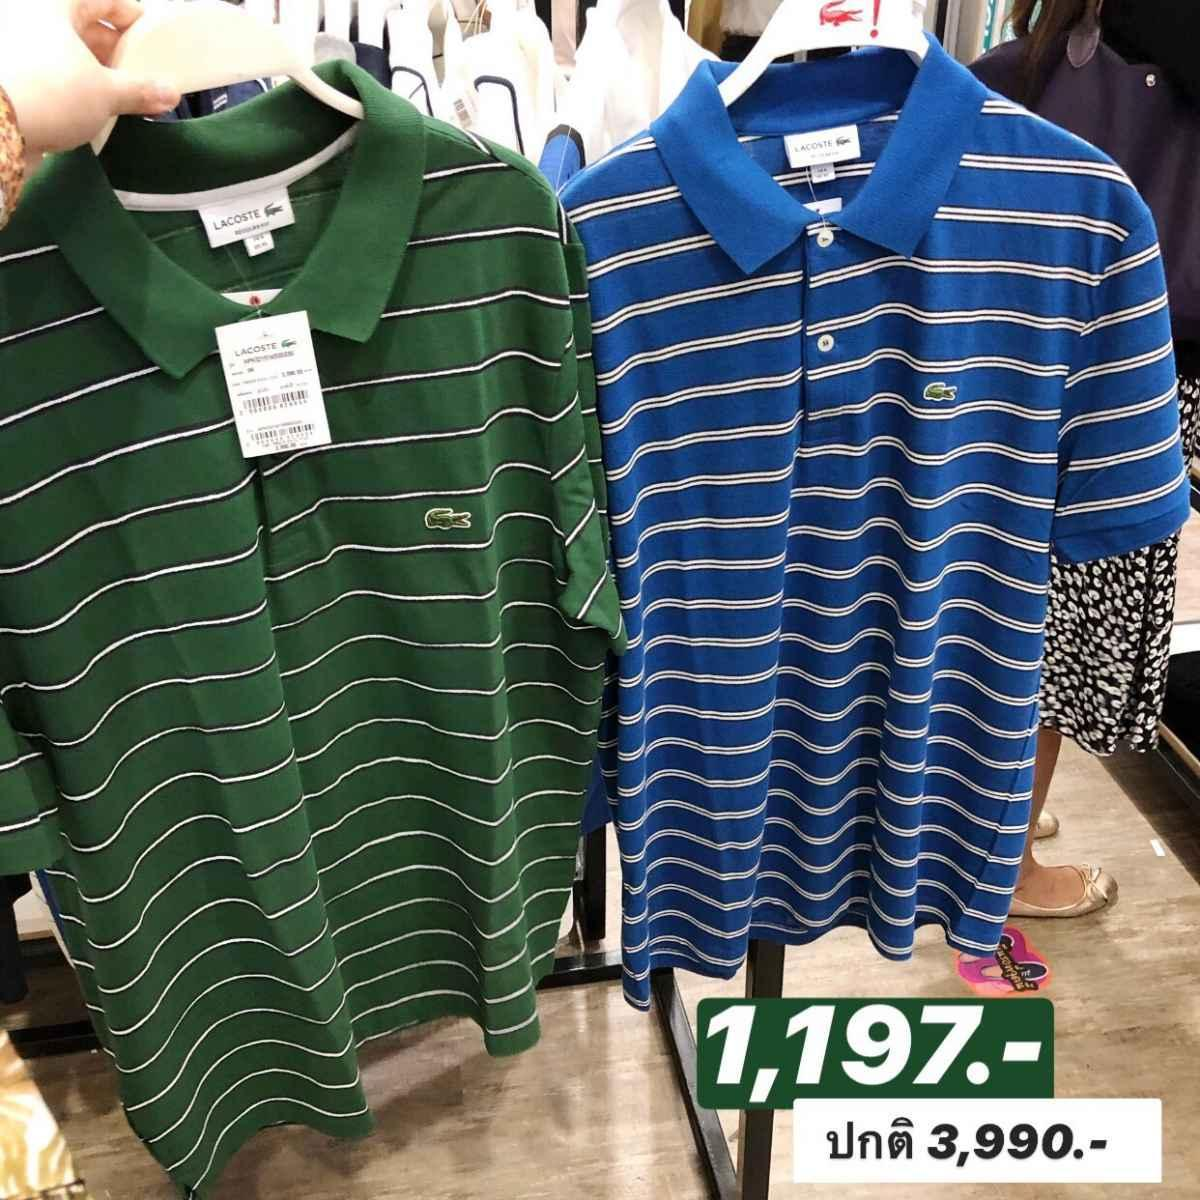Tshirt: (3, 93, 605, 1153), (570, 60, 1191, 946)
